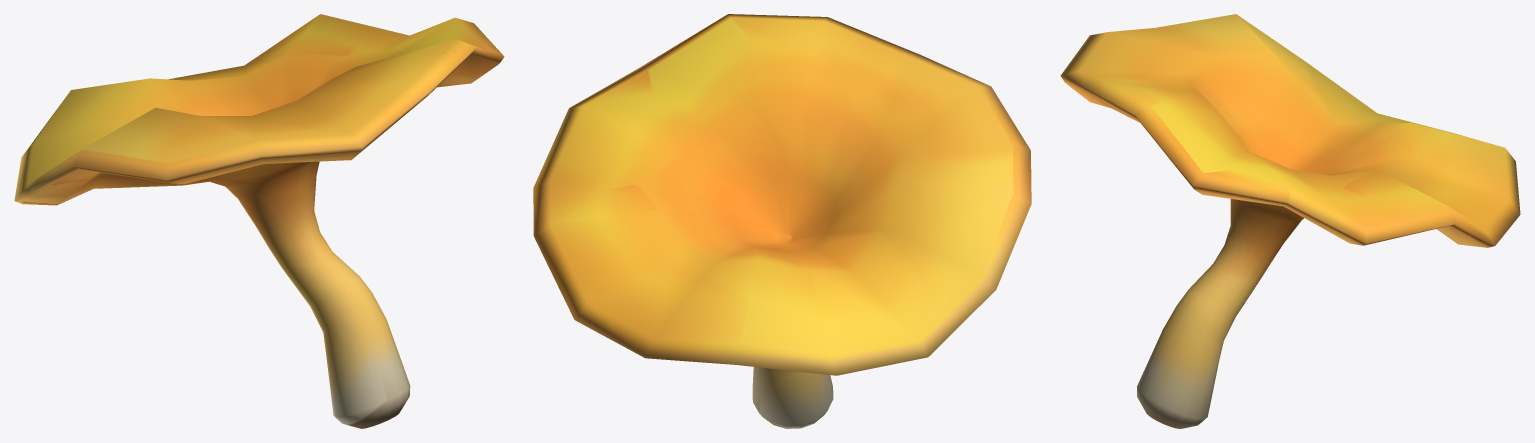
Rendered from sieni4.fbx.
The picture shows the model from 3 angles, left to right: view 1: azimuth 30°, elevation 25°; view 2: azimuth 150°, elevation 25°; view 3: azimuth 270°, elevation 25°; orthographic projection. The views are drawn at different scales.
Parts seen in each view (by area): view 1: kantarelli2; view 2: kantarelli2; view 3: kantarelli2.
Boxes of the visible parts, x1,y1,x2,y2 form: kantarelli2: [14, 14, 504, 428]; kantarelli2: [533, 14, 1031, 428]; kantarelli2: [1060, 14, 1520, 428].
Size of the model in its own units: 112 by 92.65 by 109.
